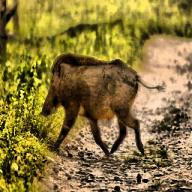boar: (40, 52, 164, 158)
